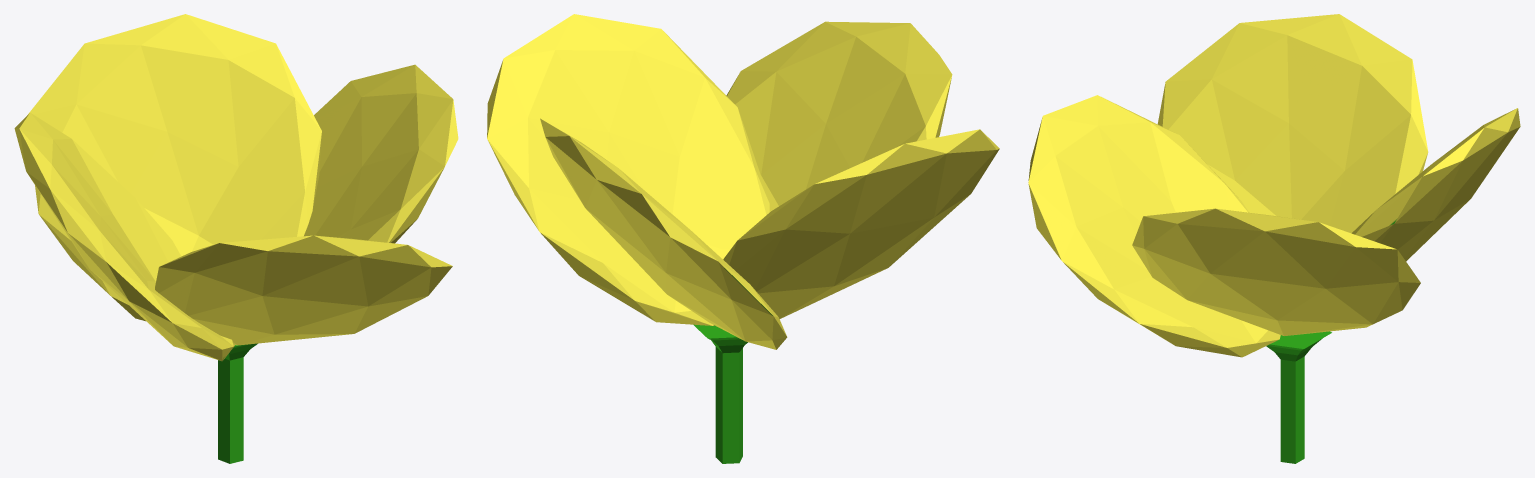
Rendered from flower5.fbx.
3 renders of one model, left to right at view 1: azimuth 30°, elevation 25°; view 2: azimuth 150°, elevation 25°; view 3: azimuth 270°, elevation 25°, orthographic. The views are drawn at different scales.
Parts seen in each view (by area): view 1: flower5; view 2: flower5; view 3: flower5.
Boxes of the visible parts, box(x1,y1,x2,y2) form: flower5: box(14, 14, 458, 463); flower5: box(487, 14, 999, 463); flower5: box(1028, 14, 1520, 463).
Bounding box in the file's own units: 44.19 × 37.54 × 46.99.
